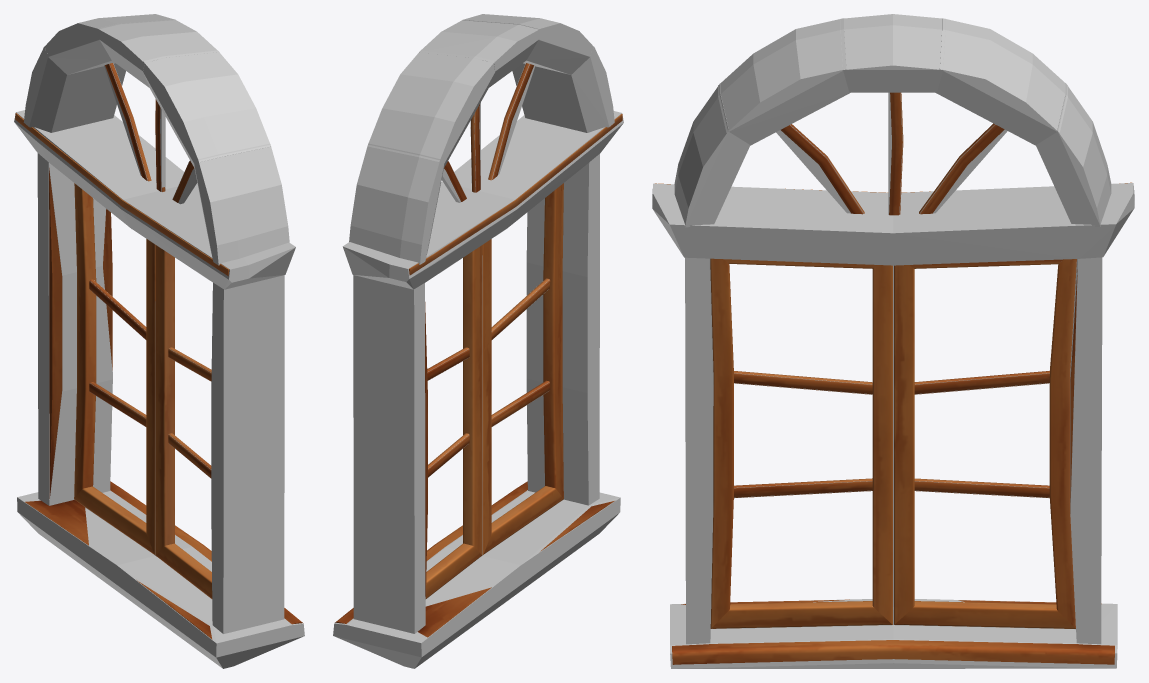
Rendered from SM_PropWindow01TypeH_2_2.fbx.
The picture shows the model from 3 angles, left to right: view 1: azimuth 30°, elevation 25°; view 2: azimuth 150°, elevation 25°; view 3: azimuth 270°, elevation 25°; orthographic projection. The views are drawn at different scales.
Parts seen in each view (by area): view 1: SM_PropWindow01TypeH_2_2_ConvexHulls, SM_PropWindow01TypeH_2_2; view 2: SM_PropWindow01TypeH_2_2_ConvexHulls, SM_PropWindow01TypeH_2_2; view 3: SM_PropWindow01TypeH_2_2_ConvexHulls, SM_PropWindow01TypeH_2_2.
Part boxes in pixels (bbox=[...]): SM_PropWindow01TypeH_2_2_ConvexHulls: bbox=[14, 14, 304, 668]; SM_PropWindow01TypeH_2_2: bbox=[15, 63, 303, 639]; SM_PropWindow01TypeH_2_2_ConvexHulls: bbox=[333, 14, 623, 668]; SM_PropWindow01TypeH_2_2: bbox=[335, 63, 622, 637]; SM_PropWindow01TypeH_2_2_ConvexHulls: bbox=[652, 14, 1134, 668]; SM_PropWindow01TypeH_2_2: bbox=[655, 92, 1131, 664].
Bounding box in the file's own units: 44.95 × 189 × 272.
Materials: 2 (1 with a texture image).
